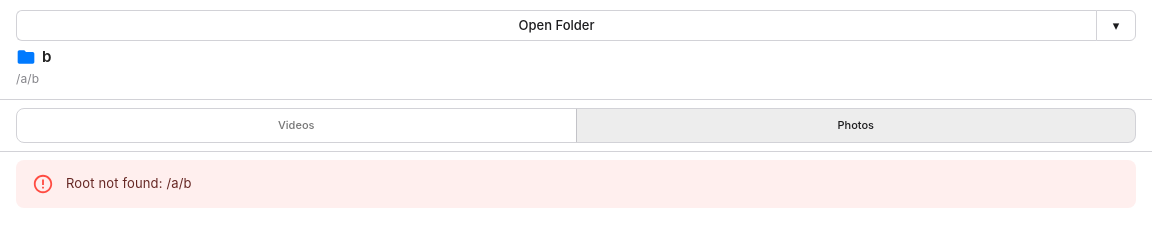
Test: PhotosSidebar › does not offer a manual rescan entry in the open-folder dropdown
Check: the message with test id "photos-job-error" reads "Root not found: /a/b", box [66,175,192,191]
Click the button "▾" at (1116, 25), box [1096,10,1136,41]
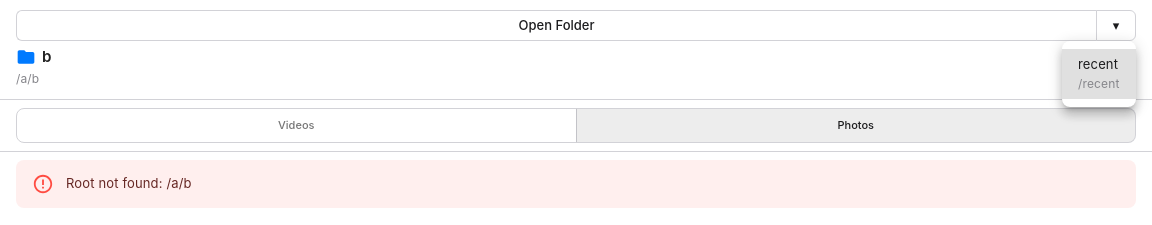
Check: the number of menu items is 1, box [1062,49,1136,100]
